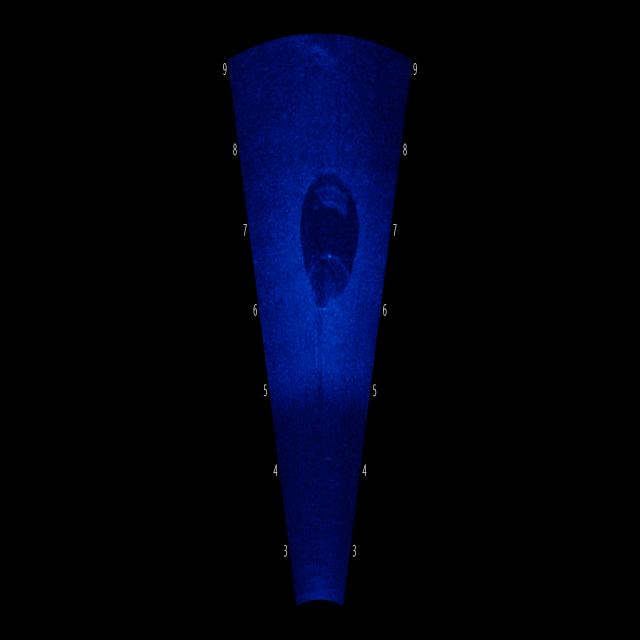circle: (299, 146, 369, 326)
